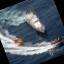fishing boat: (49, 34, 64, 47)
